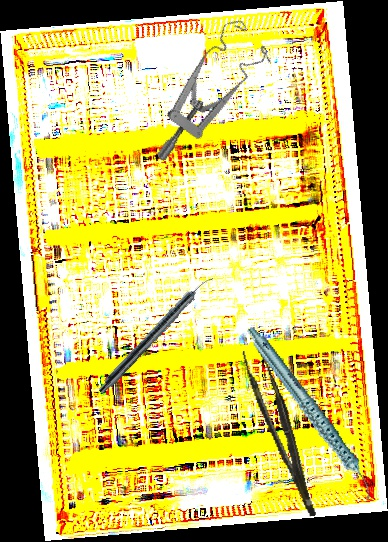Handpiece: (246, 309, 376, 518), (95, 270, 217, 399)
Speculum: (117, 12, 289, 163)
Tissue Forceps: (241, 344, 317, 523)
